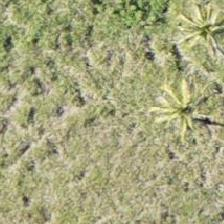coconut_tree: (130, 59, 220, 149), (155, 0, 223, 77)
